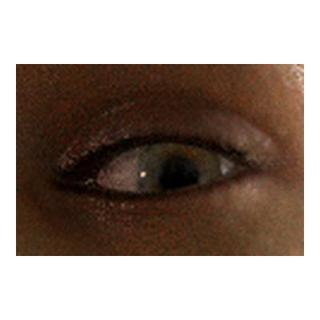pupil: (160, 157, 198, 195)
